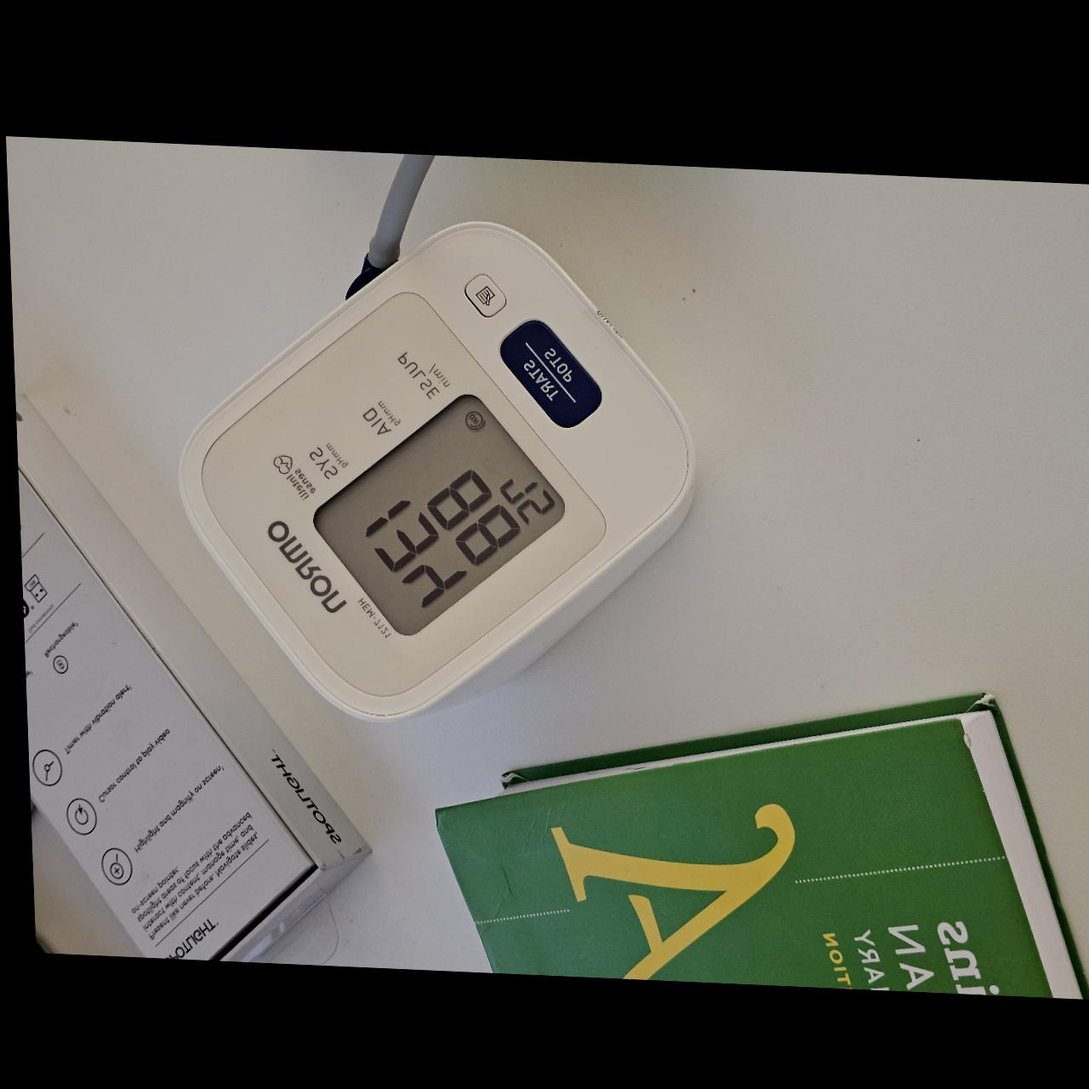blood pressure monitor: (167, 206, 710, 740)
